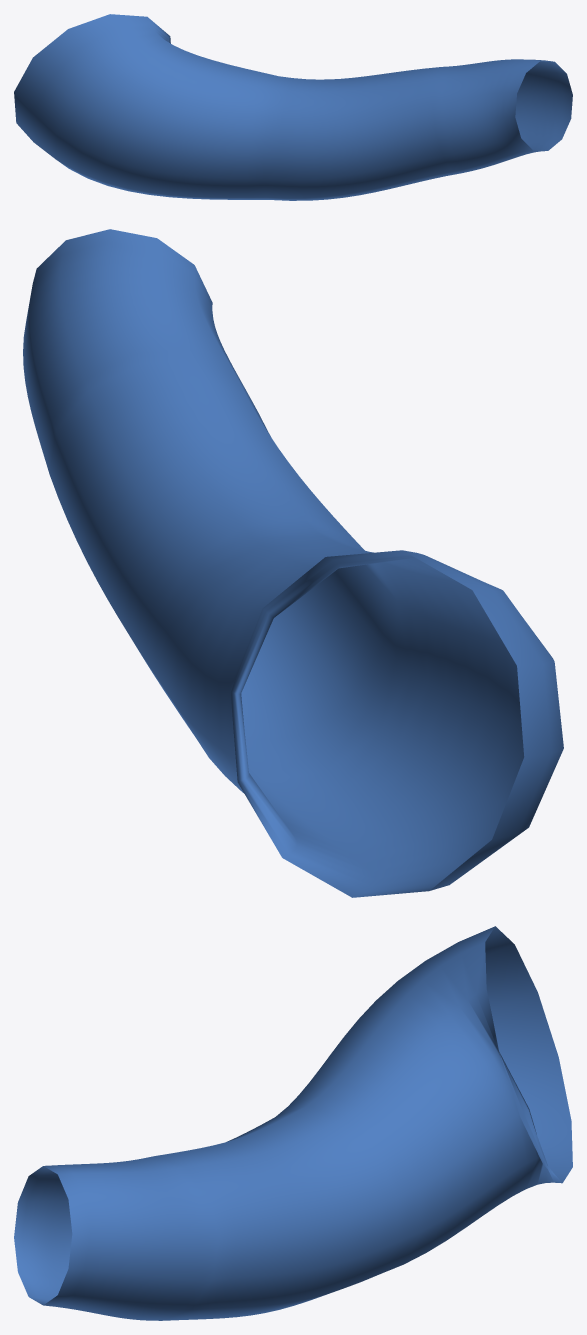
3 views of the same model, one above another, from view 1: azimuth 30°, elevation 25°; view 2: azimuth 150°, elevation 25°; view 3: azimuth 270°, elevation 25° (orthographic). The views are drawn at different scales.
Visible parts, largest first — view 1: 左头臂静脉; view 2: 左头臂静脉; view 3: 左头臂静脉.
Part boxes in pixels (x1=…): 左头臂静脉: x1=14, y1=14, x2=572, y2=200; 左头臂静脉: x1=23, y1=229, x2=563, y2=897; 左头臂静脉: x1=14, y1=926, x2=572, y2=1320.
Size of the model in its own units: 0.0813 by 0.0329 by 0.0649.
